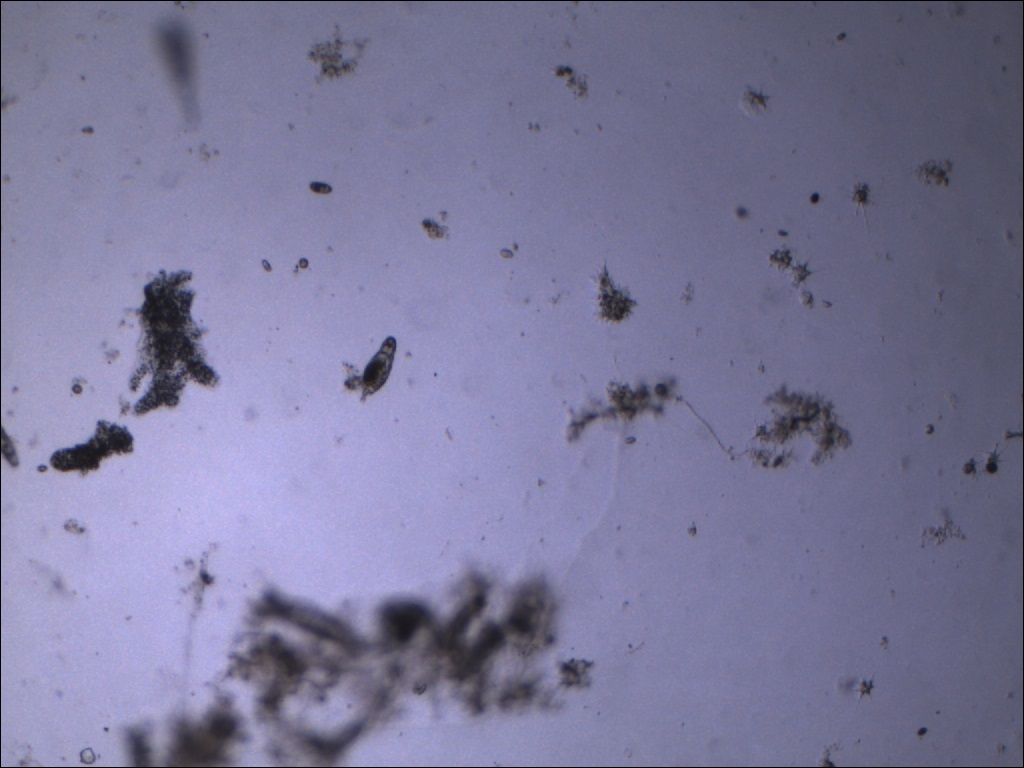amoeba: (125, 264, 228, 420), (49, 416, 140, 479)
